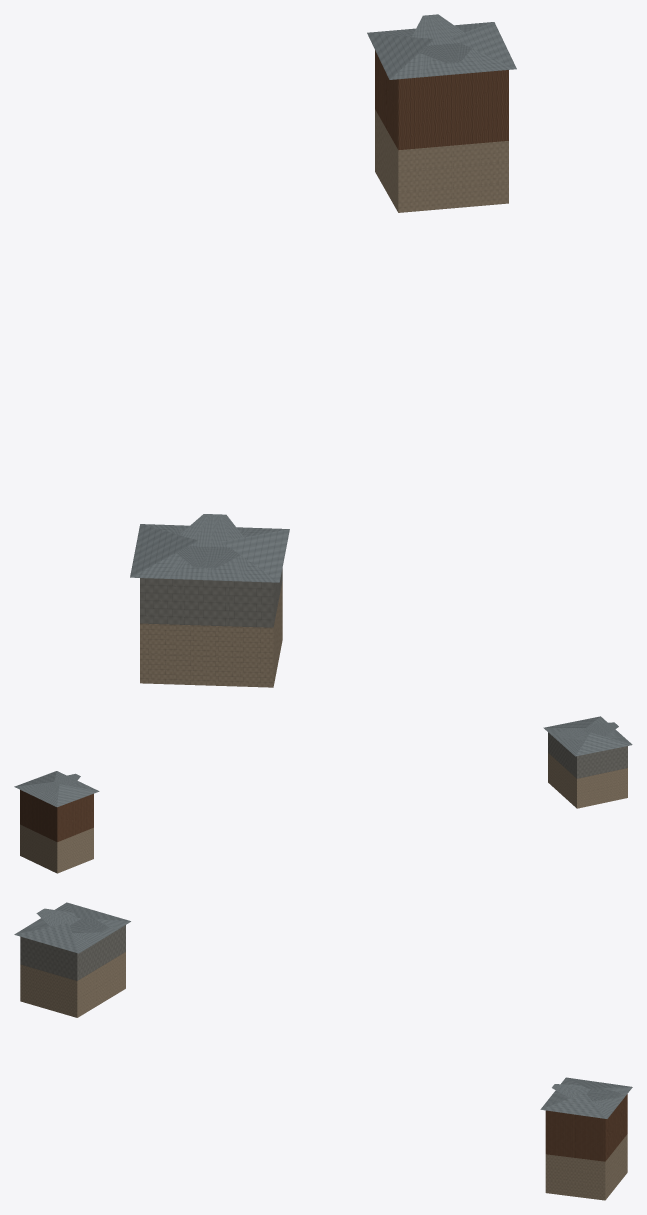
Rendered from bld_c9_7_510.gltf.
3 renders of one model, top to bottom at view 1: azimuth 30°, elevation 25°; view 2: azimuth 150°, elevation 25°; view 3: azimuth 270°, elevation 25°, orthographic. The views are drawn at different scales.
Parts seen in each view (by area): view 1: bld_c9_7_510; view 2: bld_c9_7_510; view 3: bld_c9_7_510.
Boxes of the visible parts, x1,y1,x2,y2 form: bld_c9_7_510: (130,14,516,687); bld_c9_7_510: (14,716,632,873); bld_c9_7_510: (14,902,632,1200).
Bounding box in the file's own units: 68.15 × 13.1 × 73.69.
Materials: 4 (4 with a texture image).
